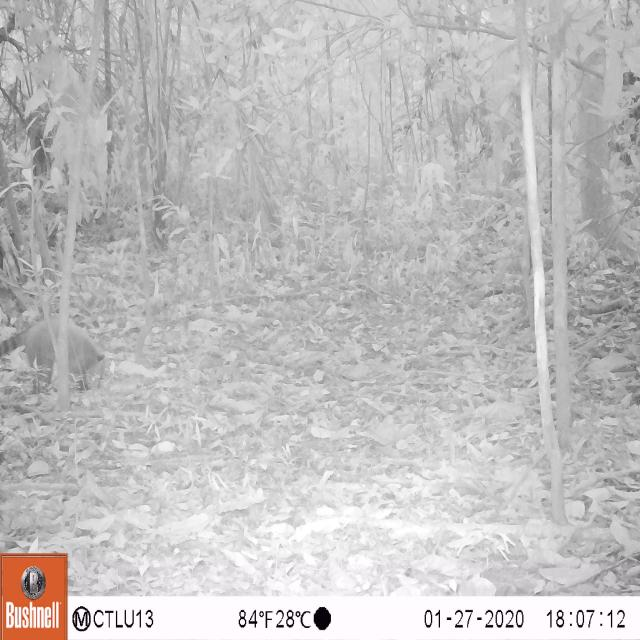South American Coati: (0, 302, 123, 408)
